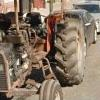Tractor: (5, 6, 88, 100)
